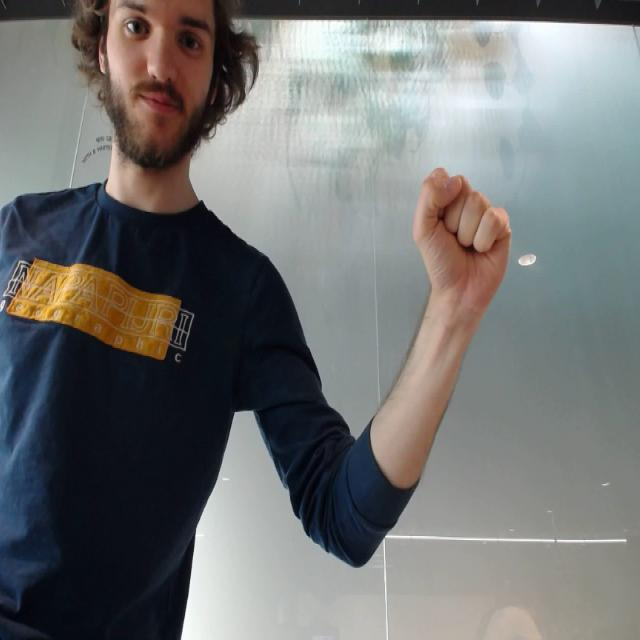stop: (405, 150, 526, 316)
